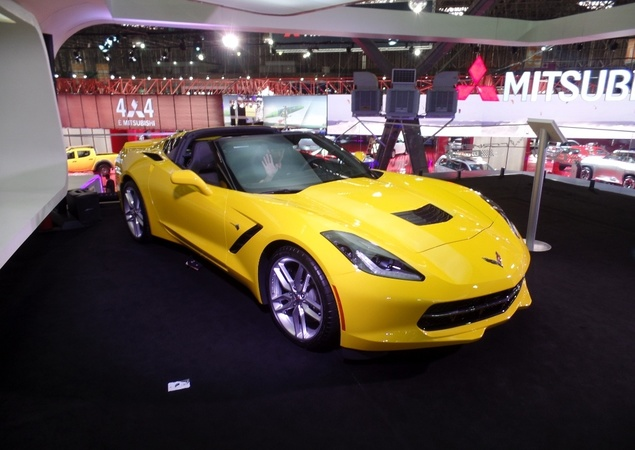Carro: (116, 115, 535, 349), (582, 142, 635, 187), (62, 142, 118, 180), (434, 150, 496, 181), (557, 143, 610, 174)
